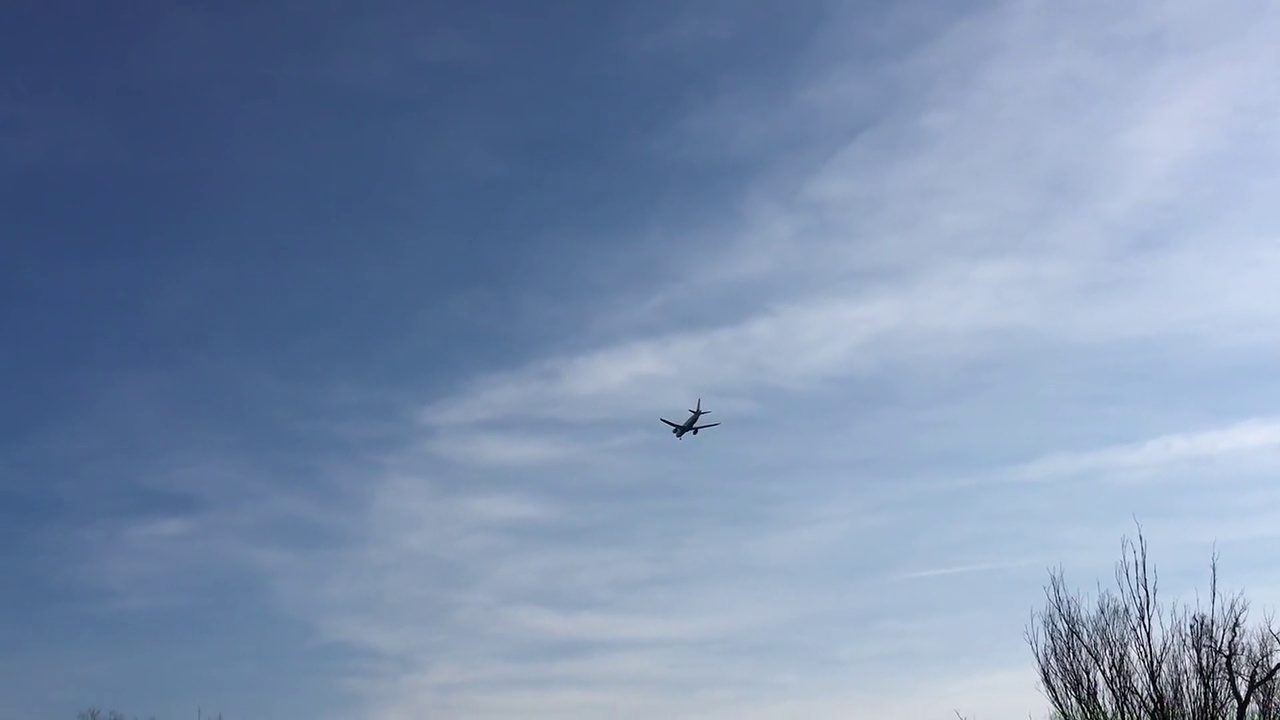plane: (658, 397, 720, 439)
